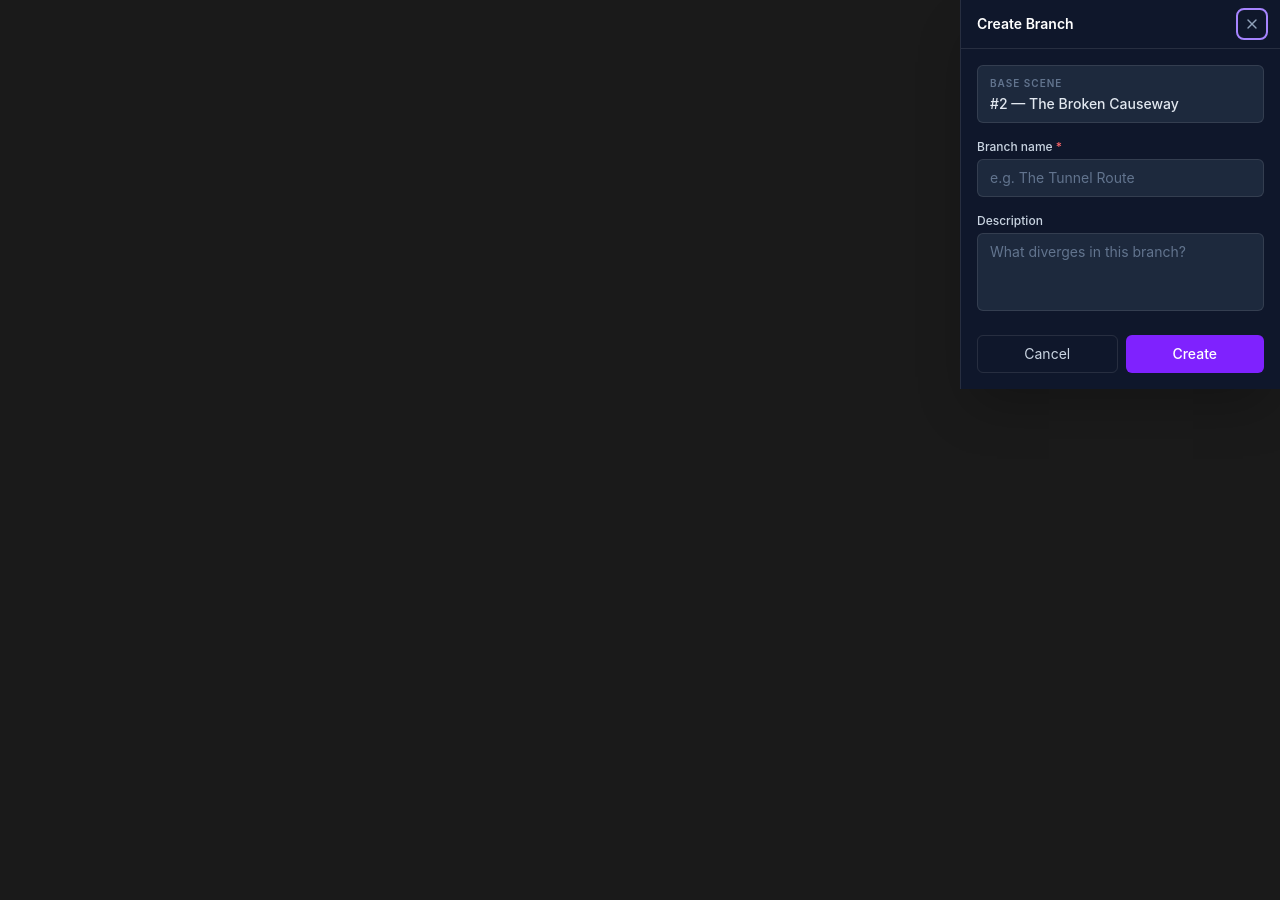
Test: CreateBranchPanel › keeps the panel open and displays a save failure
In the field labelled "Branch name *": (1120, 178) [977,159,1264,197], type "The Rooftop Route"
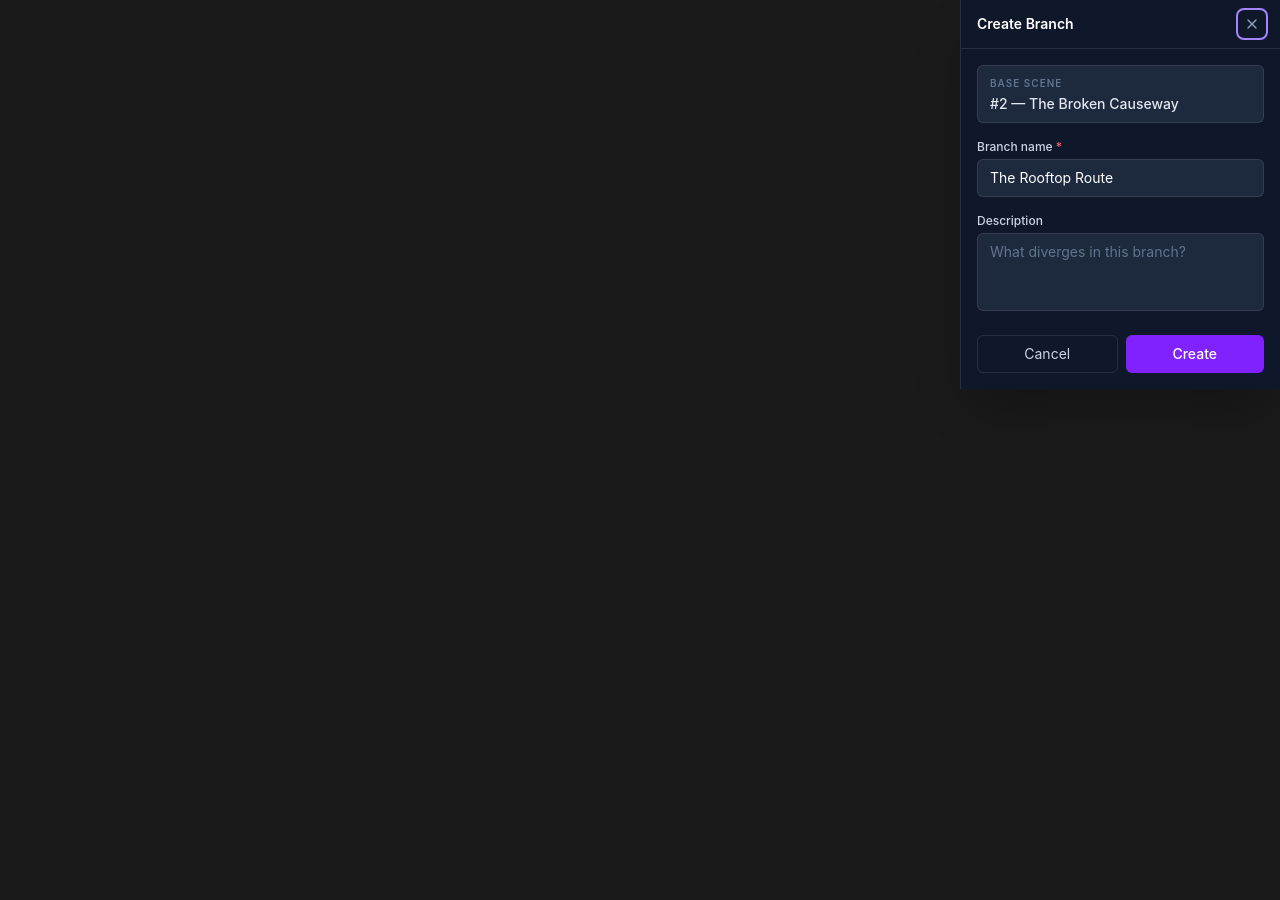
Click the button "Create": click(1195, 354) [1126,335,1264,373]
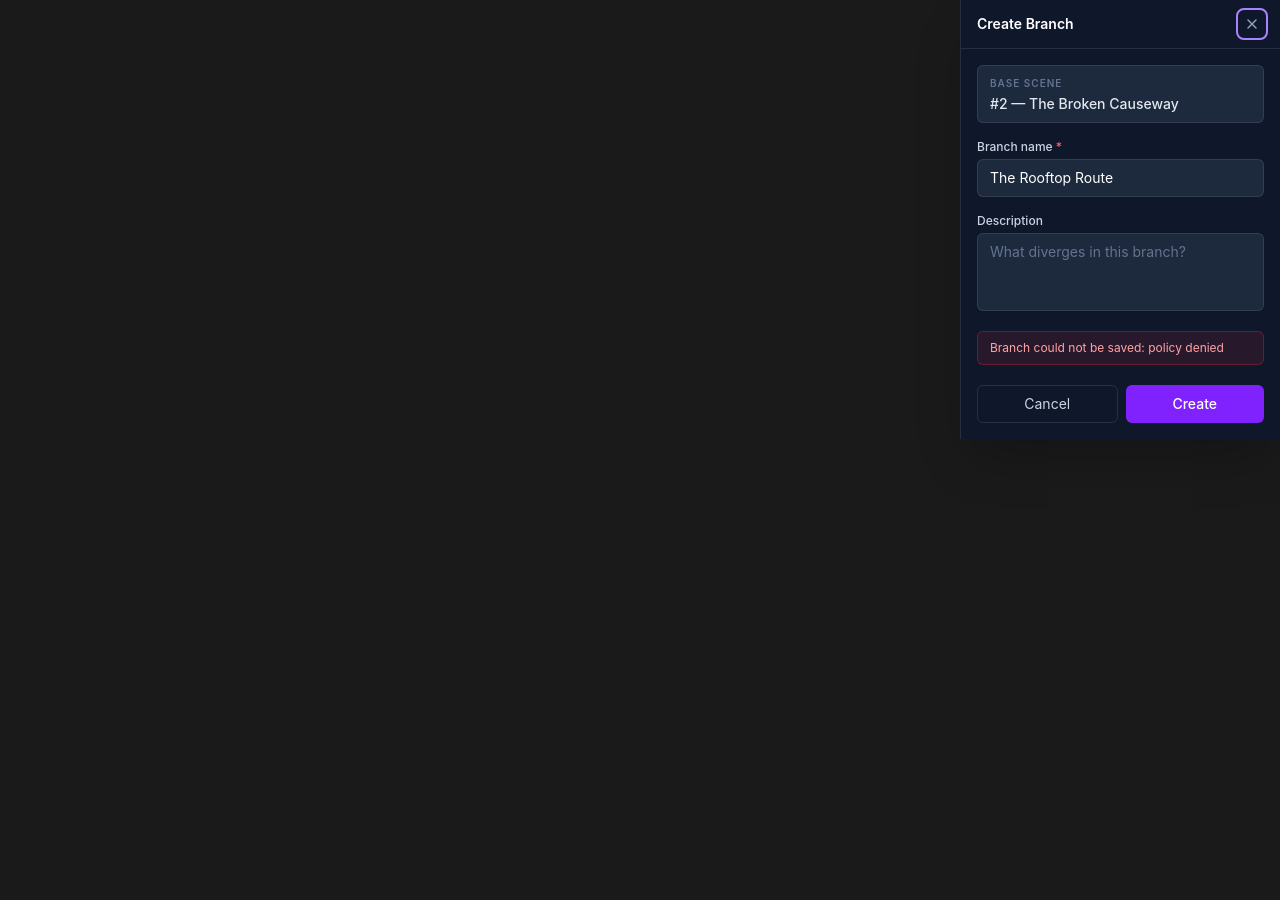
Now the message reads "Branch could not be saved: policy denied", box [990,340,1224,355]
